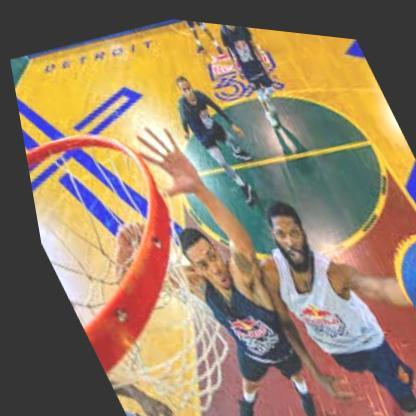basketball: (368, 208, 416, 331)
rim: (14, 107, 233, 385)
